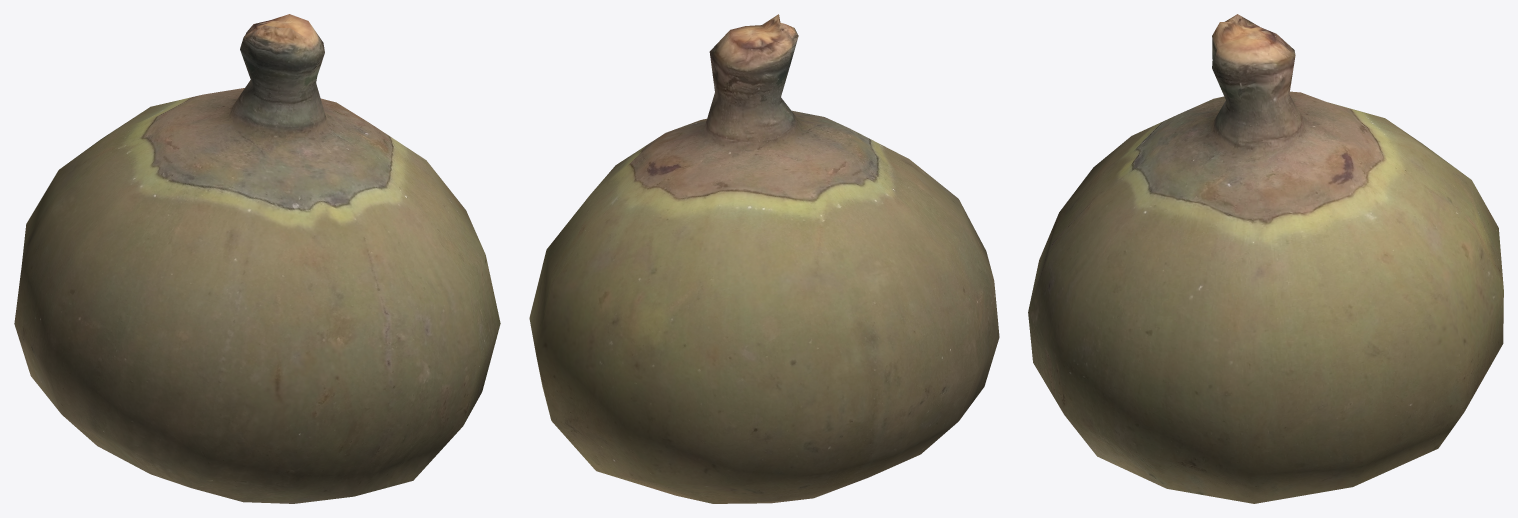
File: A139_Young_Coconut_low.fbx
3 renders of one model, left to right at view 1: azimuth 30°, elevation 25°; view 2: azimuth 150°, elevation 25°; view 3: azimuth 270°, elevation 25°, orthographic. The views are drawn at different scales.
Visible parts, largest first — view 1: A139_Young_Coconut_low; view 2: A139_Young_Coconut_low; view 3: A139_Young_Coconut_low.
Part boxes in pixels (box(x1,y1,x2,y2)): A139_Young_Coconut_low: box(14, 14, 500, 503); A139_Young_Coconut_low: box(529, 14, 999, 503); A139_Young_Coconut_low: box(1028, 14, 1503, 503).
Bounding box in the file's own units: 16.83 × 16.77 × 17.4.
1 material, 1 textured.
